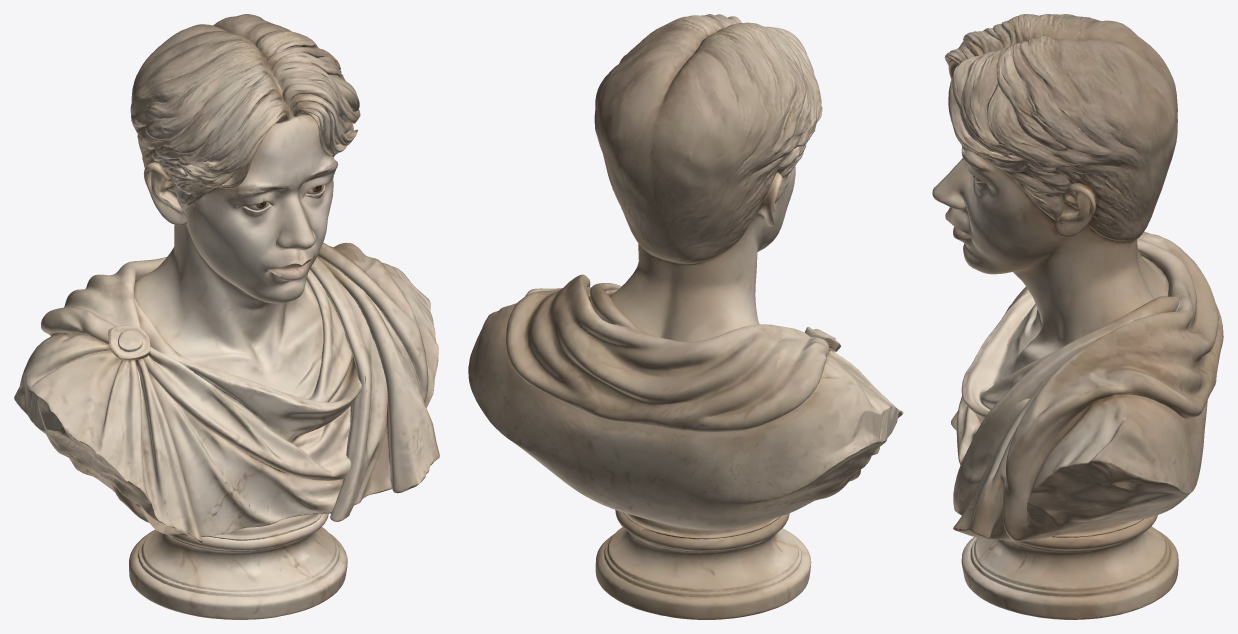
3 renders of one model, left to right at view 1: azimuth 30°, elevation 25°; view 2: azimuth 150°, elevation 25°; view 3: azimuth 270°, elevation 25°, orthographic.
Visible parts, largest first — view 1: model; view 2: model; view 3: model.
Part boxes in pixels (x1,y1,x2,y2): model: (14,14,439,619); model: (468,14,903,619); model: (932,14,1223,619).
Bounding box in the file's own units: 1.46 × 1.9 × 0.9144.
Materials: 1 (1 with a texture image).
